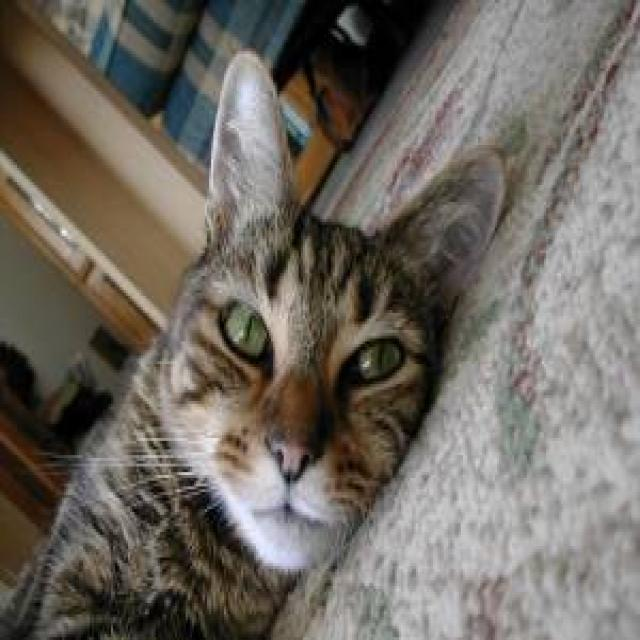Bengal: (156, 48, 503, 566)
